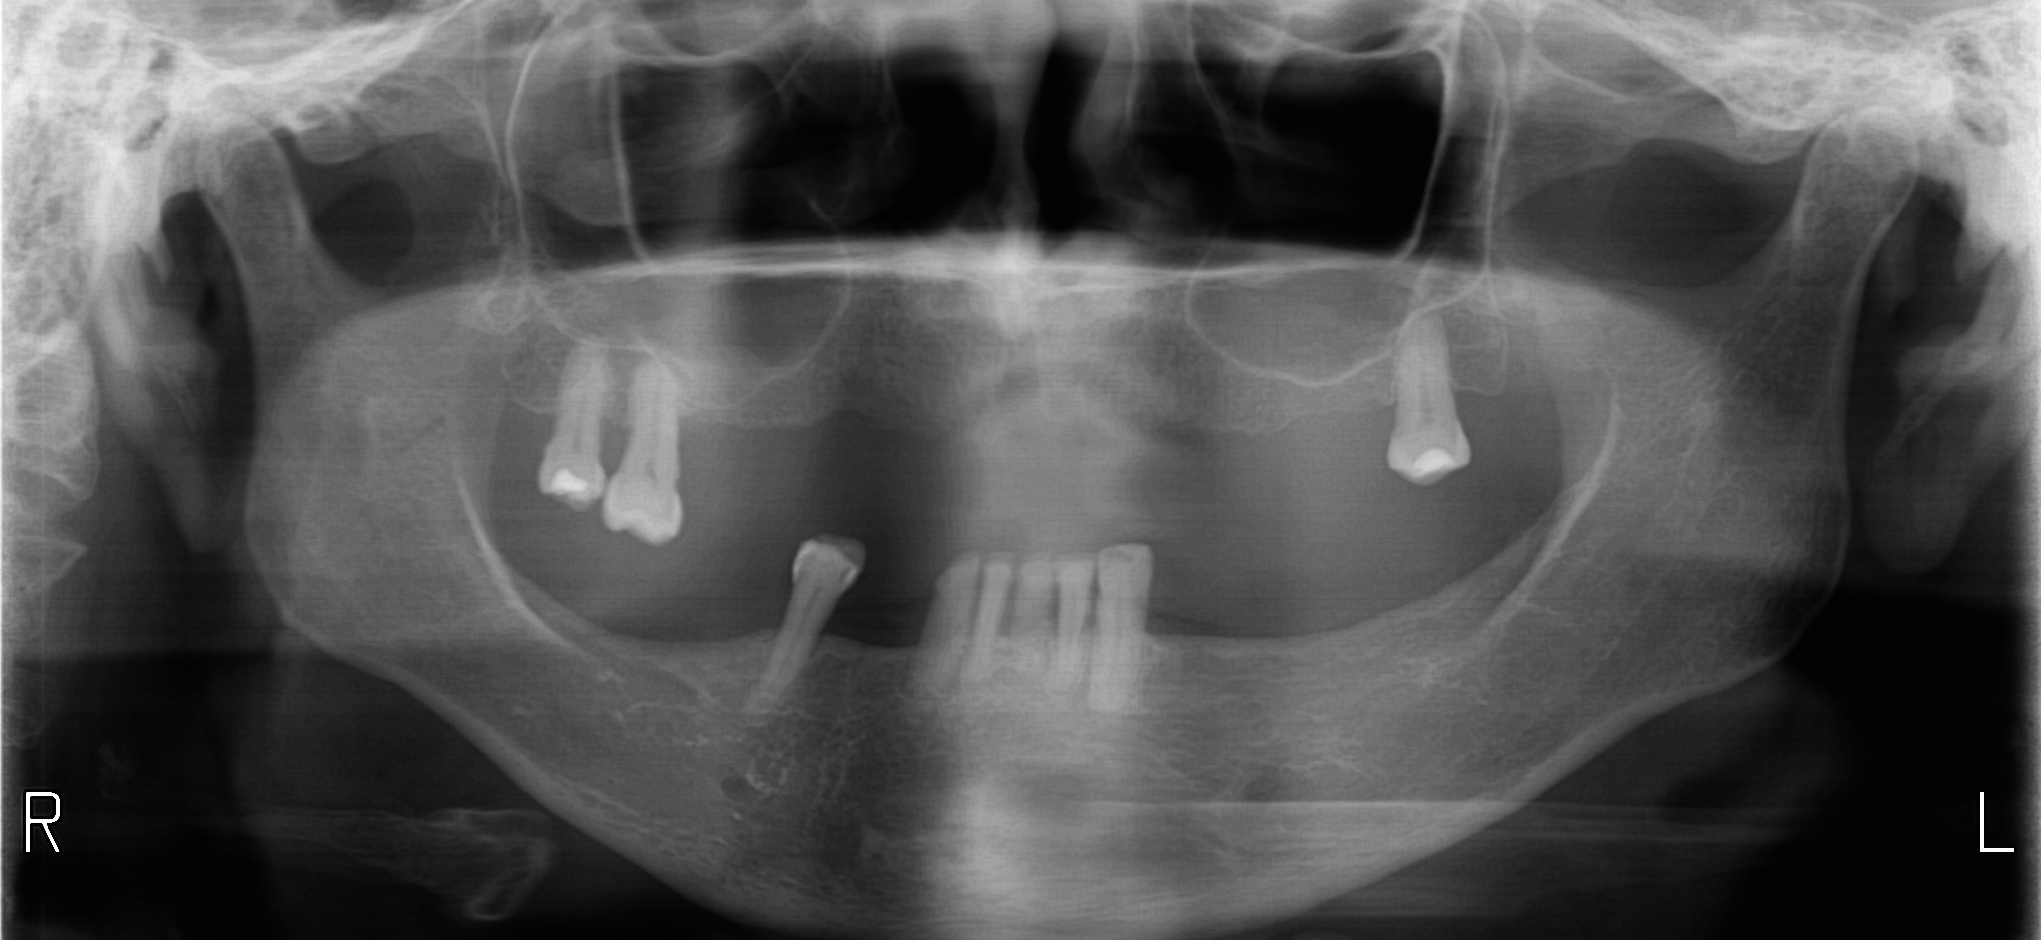cavity: (547, 415, 558, 445), (841, 566, 847, 575)
